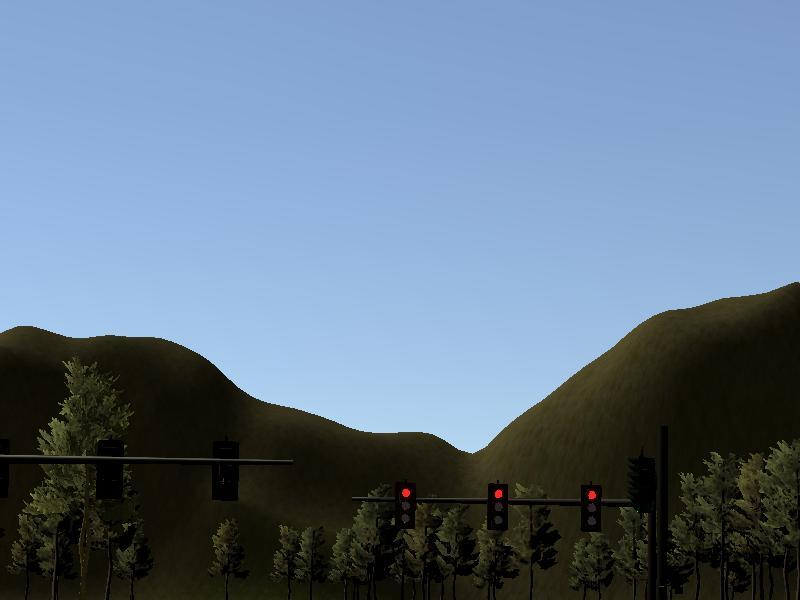Red: (581, 483, 602, 532), (486, 481, 507, 530), (394, 480, 415, 529)
